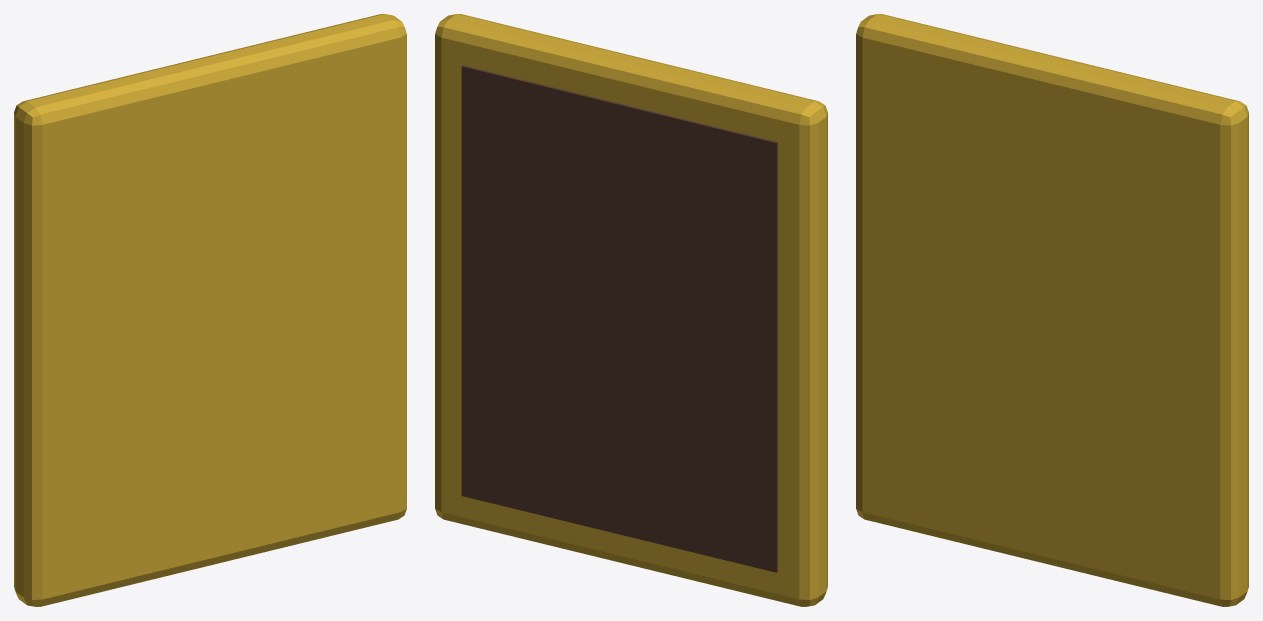
Rendered from loot_masterpiece.glb.
The picture shows the model from 3 angles, left to right: view 1: azimuth 30°, elevation 25°; view 2: azimuth 150°, elevation 25°; view 3: azimuth 330°, elevation 25°; orthographic projection.
Visible parts, largest first — view 1: Masterpiece_Frame; view 2: Masterpiece_Canvas, Masterpiece_Frame; view 3: Masterpiece_Frame.
Boxes of the visible parts, bbox=[...] form: Masterpiece_Frame: bbox=[14, 14, 406, 606]; Masterpiece_Canvas: bbox=[461, 65, 777, 572]; Masterpiece_Frame: bbox=[435, 14, 827, 606]; Masterpiece_Frame: bbox=[856, 14, 1248, 606].
Size of the model in its own units: 0.8 by 1 by 0.085.
